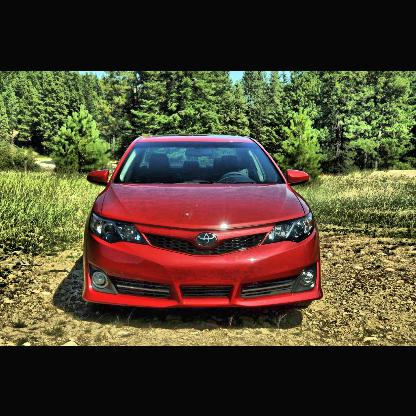Toyota Camry Sedan 2012: (83, 135, 326, 310)
